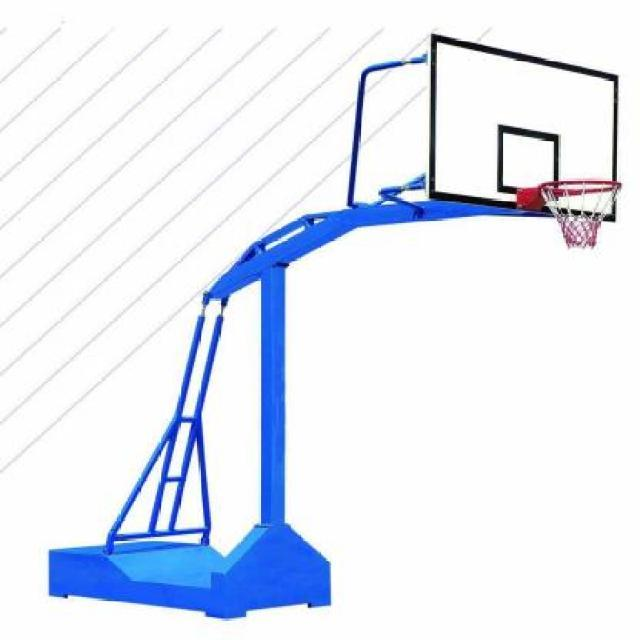rim: (537, 178, 625, 248)
